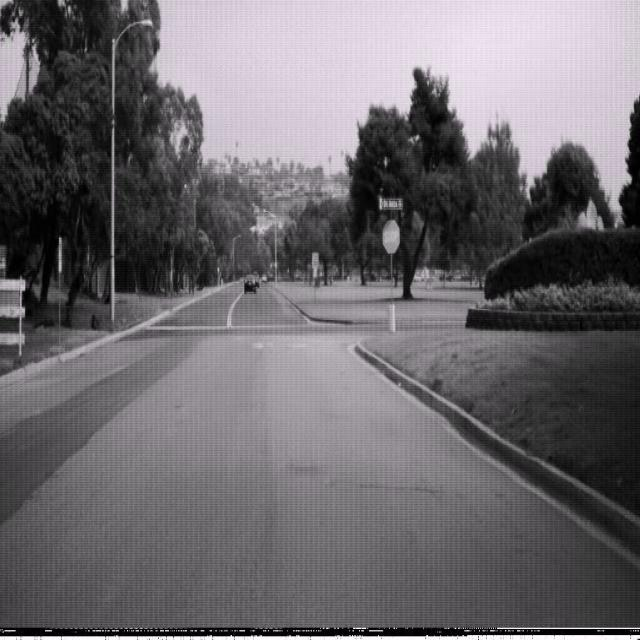stop_sign: (382, 218, 401, 254)
